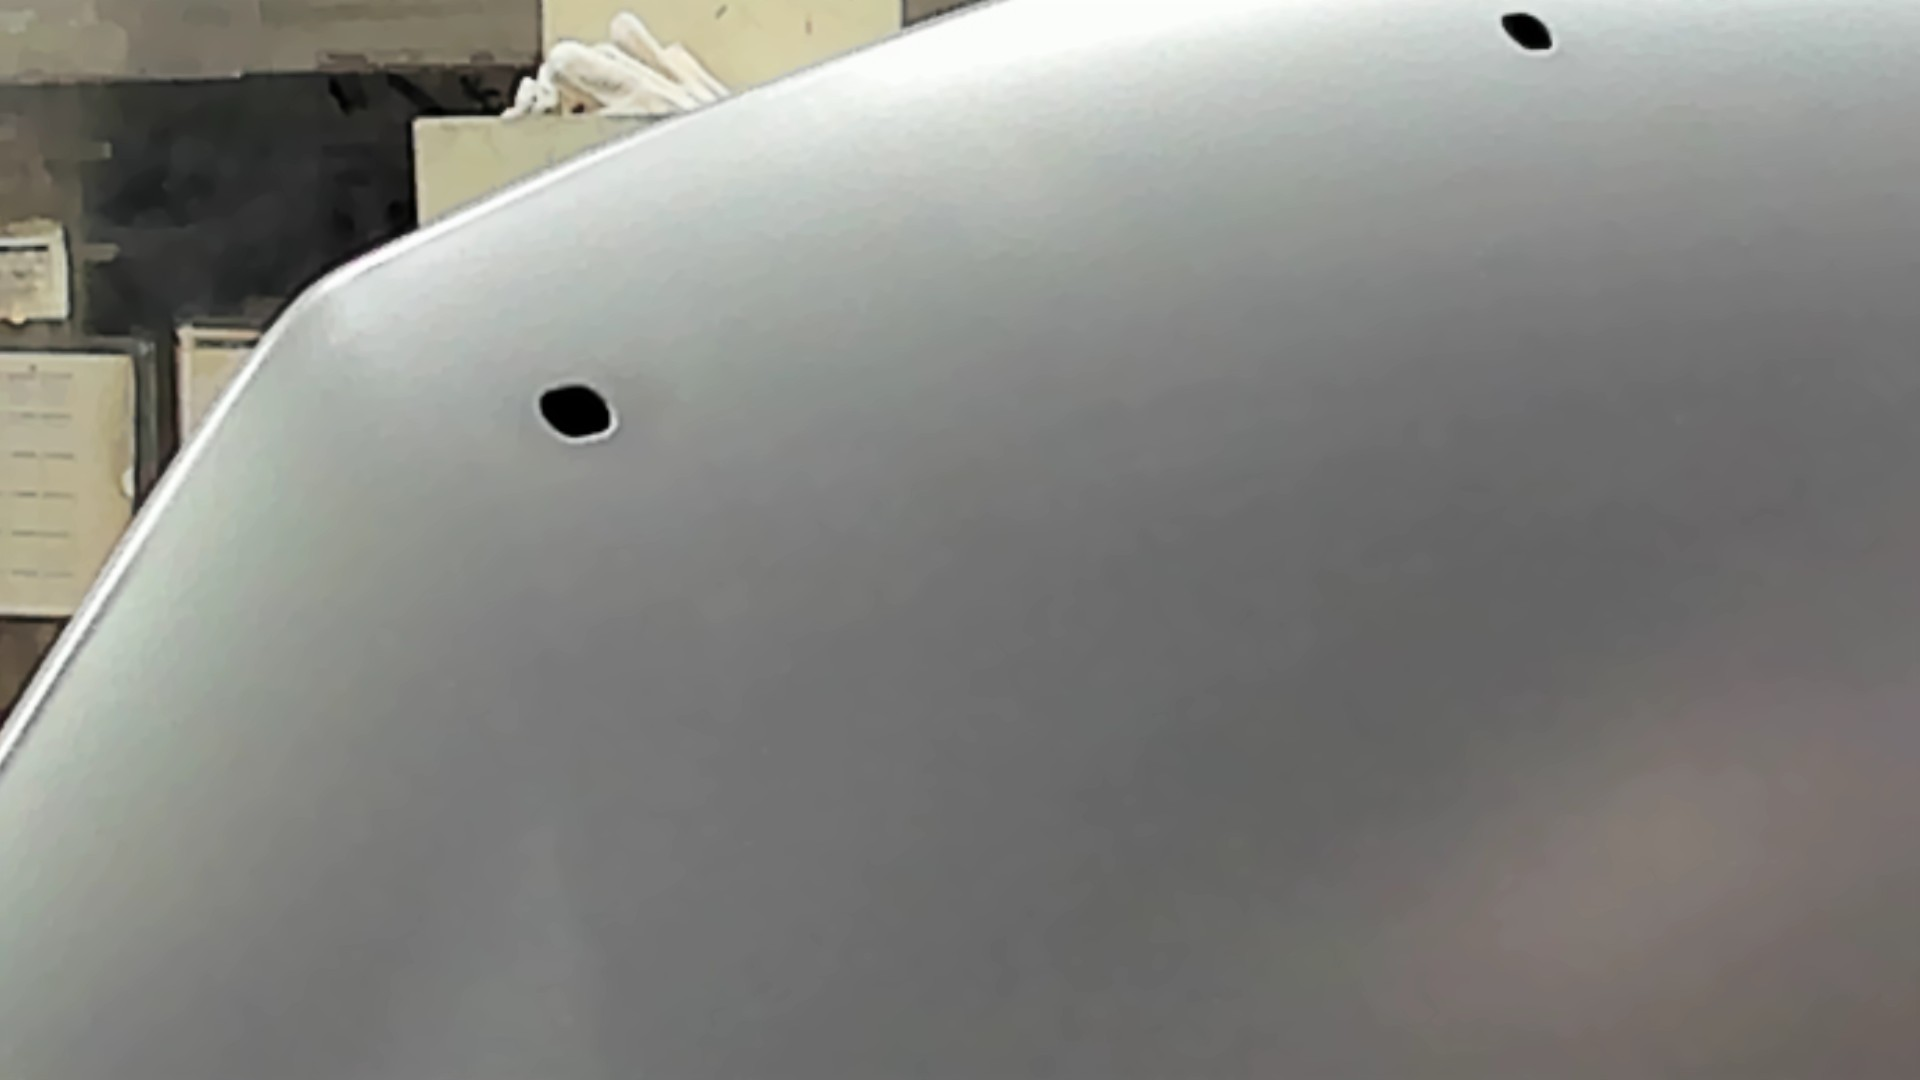amorfo: (531, 378, 621, 450), (1495, 9, 1560, 61)
capo: (754, 124, 1920, 1080)
